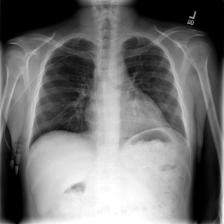normal: (28, 34, 194, 163)
